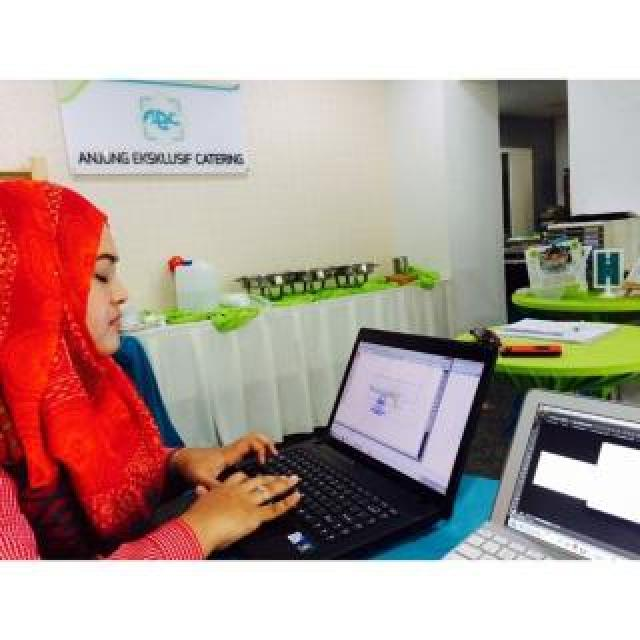laptop_computer: (210, 319, 510, 551), (486, 388, 640, 565)
